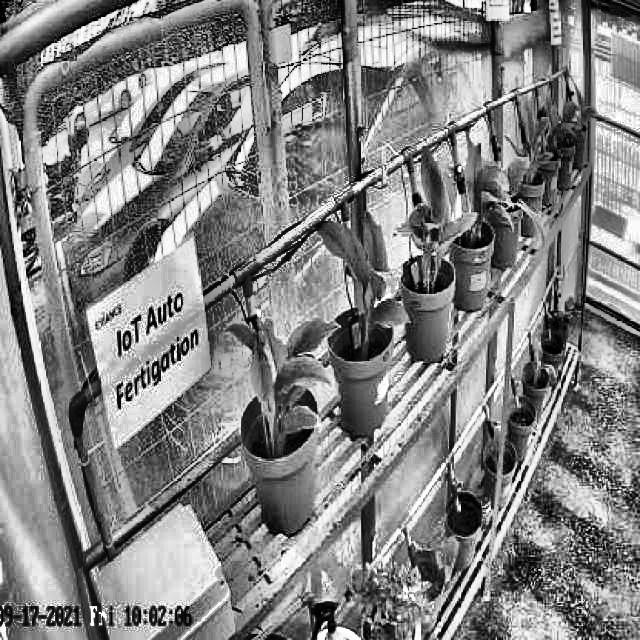plants: (223, 316, 339, 442), (318, 214, 412, 331), (400, 148, 474, 272), (464, 132, 512, 245), (526, 106, 552, 186)
